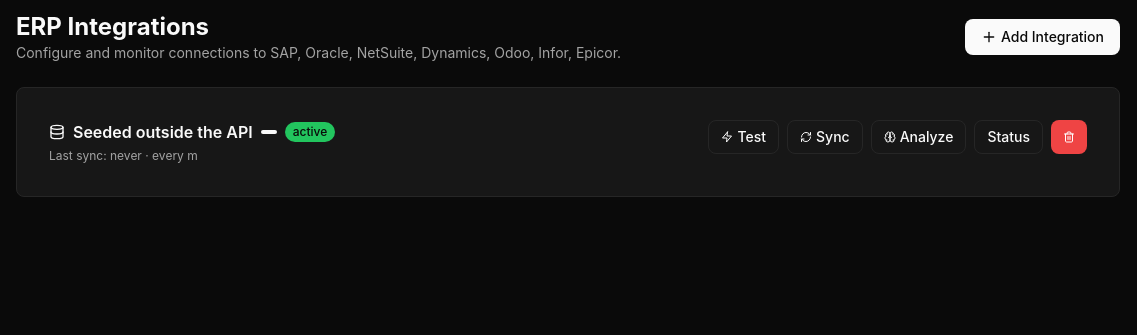
ERP integrations page — nullable API fields › shows 0 for null record counts rather than nothing at all
The image size is (1137, 335).
Expected: the text "Seeded outside the API" is shown, left=73, top=120, right=253, bottom=144
# The sync panel only renders for the selected integration.
Click the button "Status" at (1009, 137), box left=974, top=120, right=1043, bottom=154
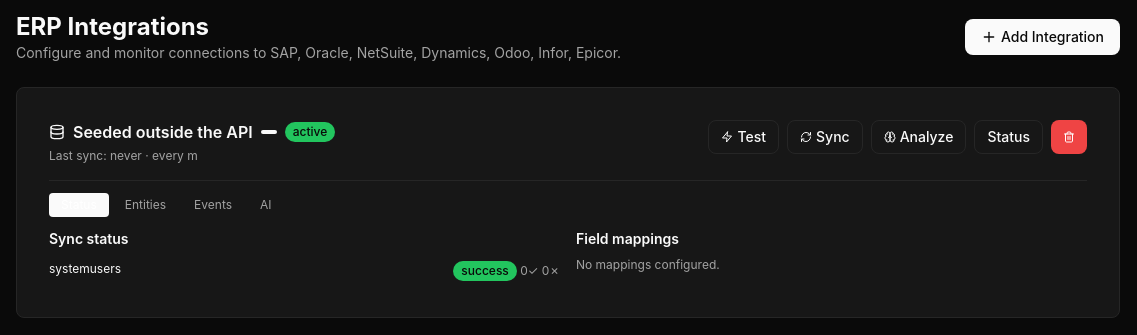
Expected: the text "success 0✓ 0✗" is shown, left=453, top=261, right=560, bottom=281
